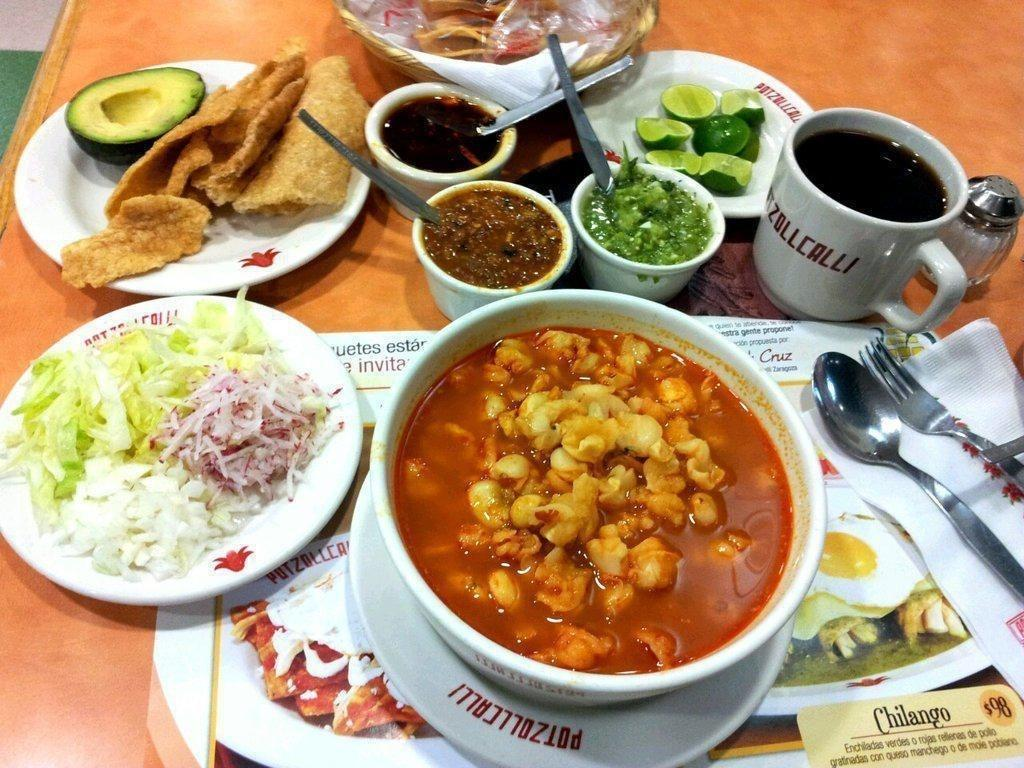cup-handle: (751, 103, 971, 329)
